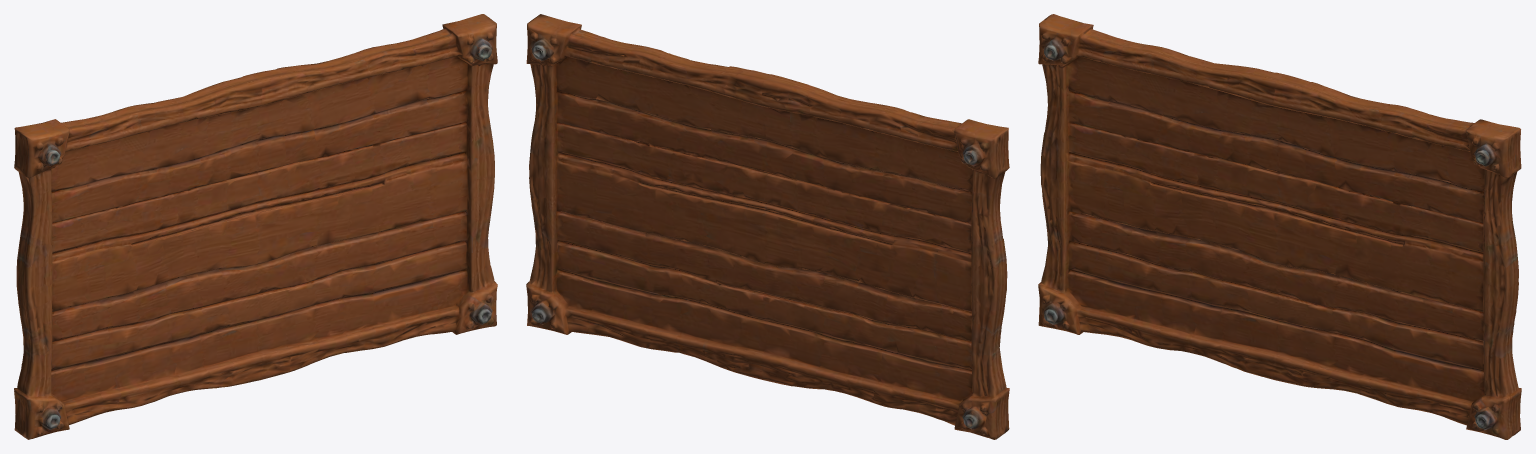
The picture shows the model from 3 angles, left to right: view 1: azimuth 30°, elevation 25°; view 2: azimuth 150°, elevation 25°; view 3: azimuth 330°, elevation 25°; orthographic projection.
Size of the model in its own units: 1.9 by 1.17 by 0.1983.
1 material, 1 textured.
